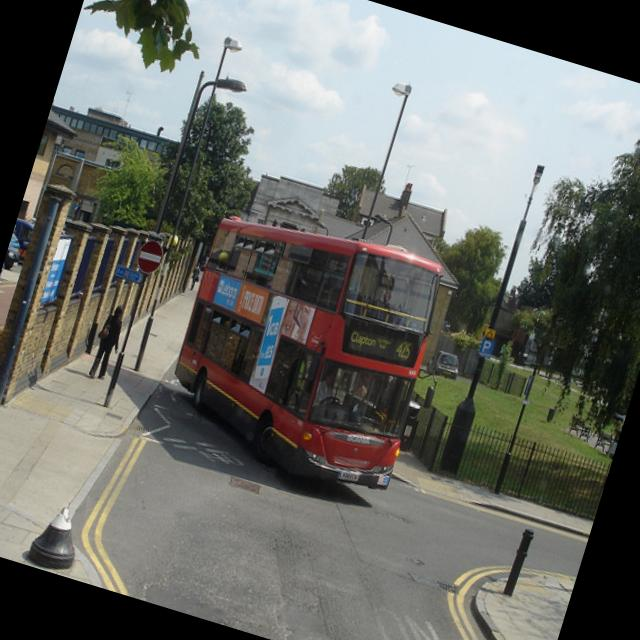Vehicle: (154, 192, 458, 508), (424, 346, 463, 382), (5, 219, 36, 259), (2, 230, 26, 270)
